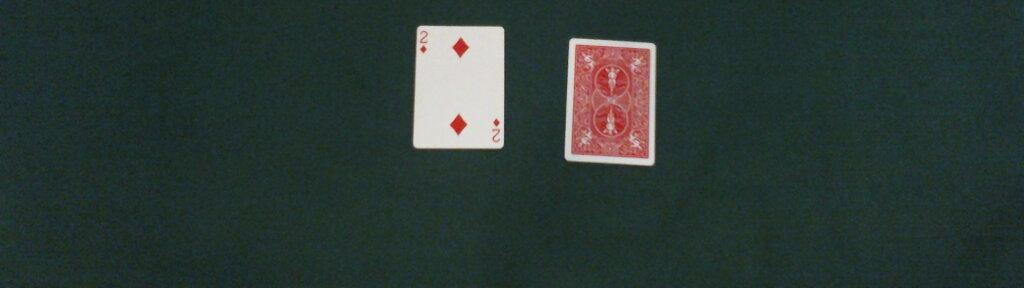back: (565, 38, 655, 167)
two: (412, 25, 504, 147)
